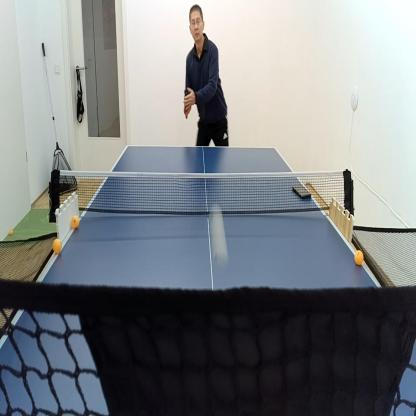Ball: (209, 200, 228, 263), (53, 239, 62, 256), (355, 250, 364, 266), (70, 216, 78, 226), (10, 229, 14, 236)
